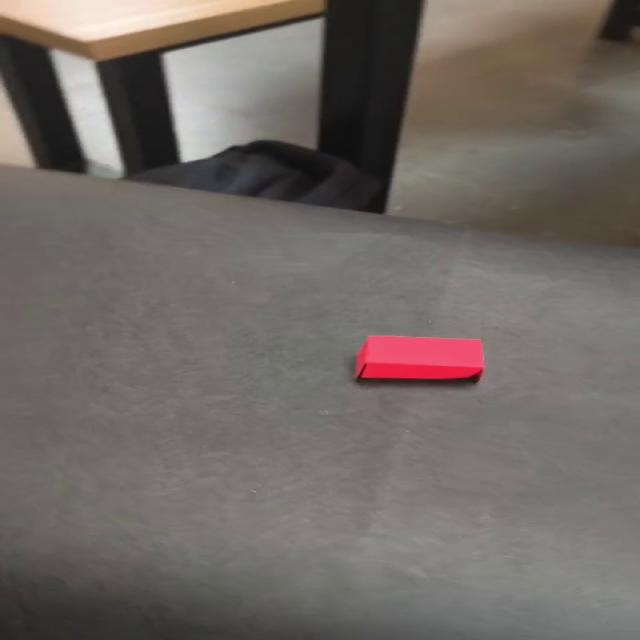red block: (354, 334, 486, 382)
